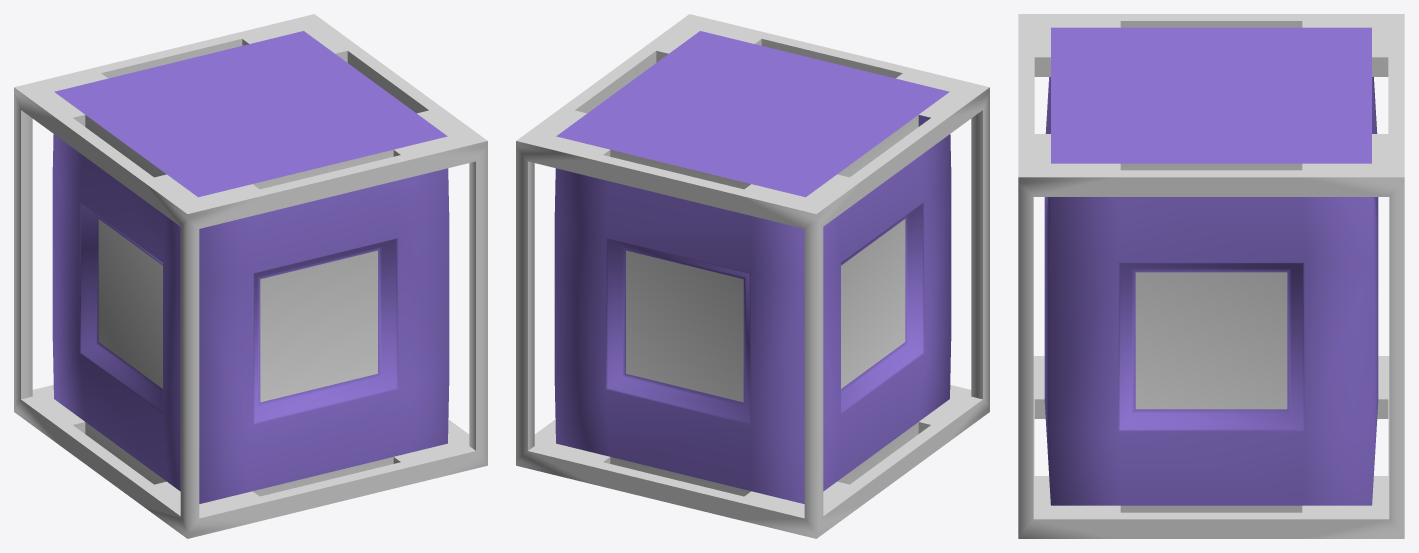
Rendered from caixa.fbx.
The picture shows the model from 3 angles, left to right: view 1: azimuth 30°, elevation 25°; view 2: azimuth 150°, elevation 25°; view 3: azimuth 270°, elevation 25°; orthographic projection. The views are drawn at different scales.
Parts seen in each view (by area): view 1: Crates; view 2: Crates; view 3: Crates.
Boxes of the visible parts, box(x1,y1,x2,y2) form: Crates: box(14, 14, 487, 538); Crates: box(516, 14, 989, 538); Crates: box(1018, 14, 1404, 538).
Bounding box in the file's own units: 155 × 160 × 155.
